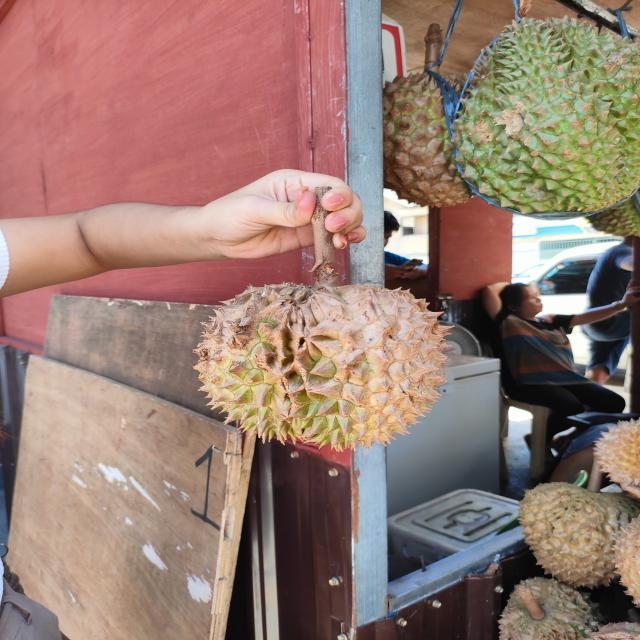mature: (190, 282, 456, 455)
